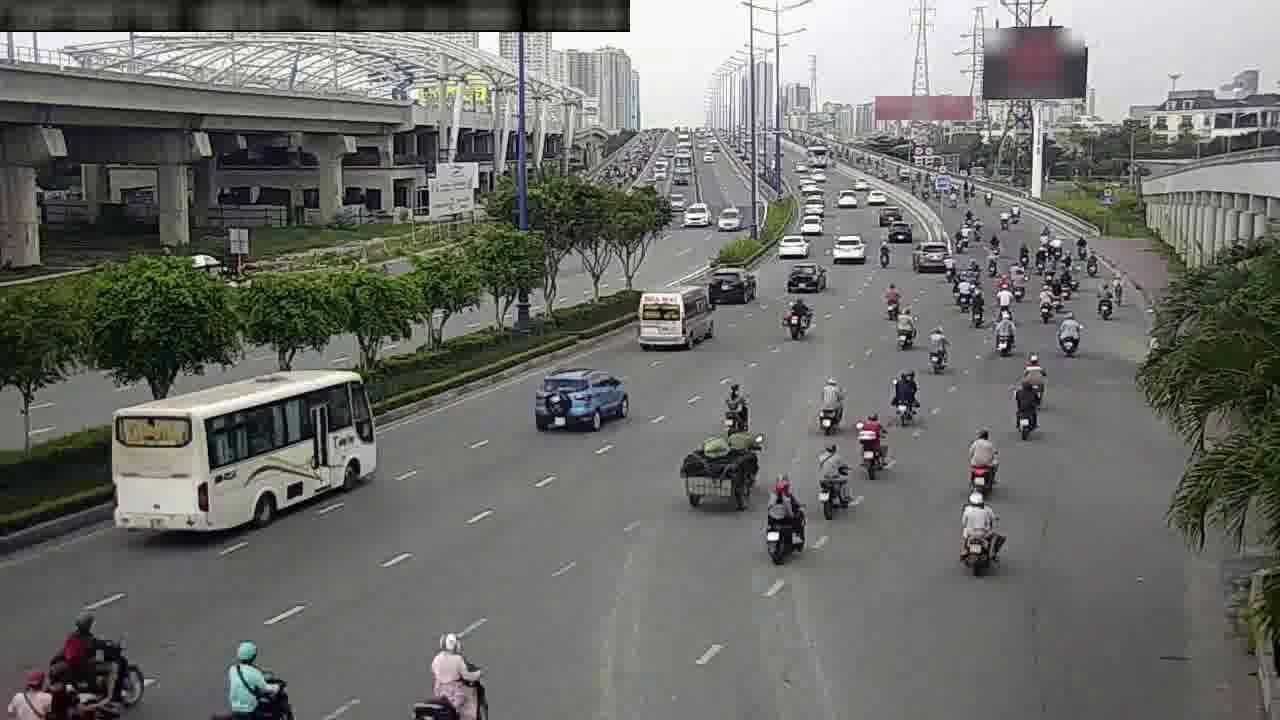14: (102, 370, 387, 537), (636, 276, 727, 347)
container: (528, 363, 626, 429), (694, 265, 757, 305), (781, 256, 828, 293), (831, 228, 870, 264), (914, 239, 950, 271), (774, 231, 809, 259)
motorbike: (32, 617, 138, 711), (410, 630, 495, 716), (219, 647, 293, 720), (949, 489, 1003, 574), (759, 474, 806, 558), (813, 446, 852, 518), (854, 409, 891, 477), (962, 430, 1001, 493), (1004, 375, 1044, 435), (813, 373, 848, 432), (887, 365, 922, 423), (717, 375, 753, 431), (1016, 352, 1050, 398), (921, 327, 952, 376), (988, 312, 1018, 357), (890, 308, 919, 354), (1056, 312, 1085, 355), (782, 296, 811, 338), (1090, 281, 1118, 323), (878, 282, 904, 320), (1032, 284, 1057, 323), (964, 286, 988, 326), (992, 284, 1013, 318), (873, 239, 894, 268), (1083, 247, 1102, 277), (983, 248, 1001, 278)
